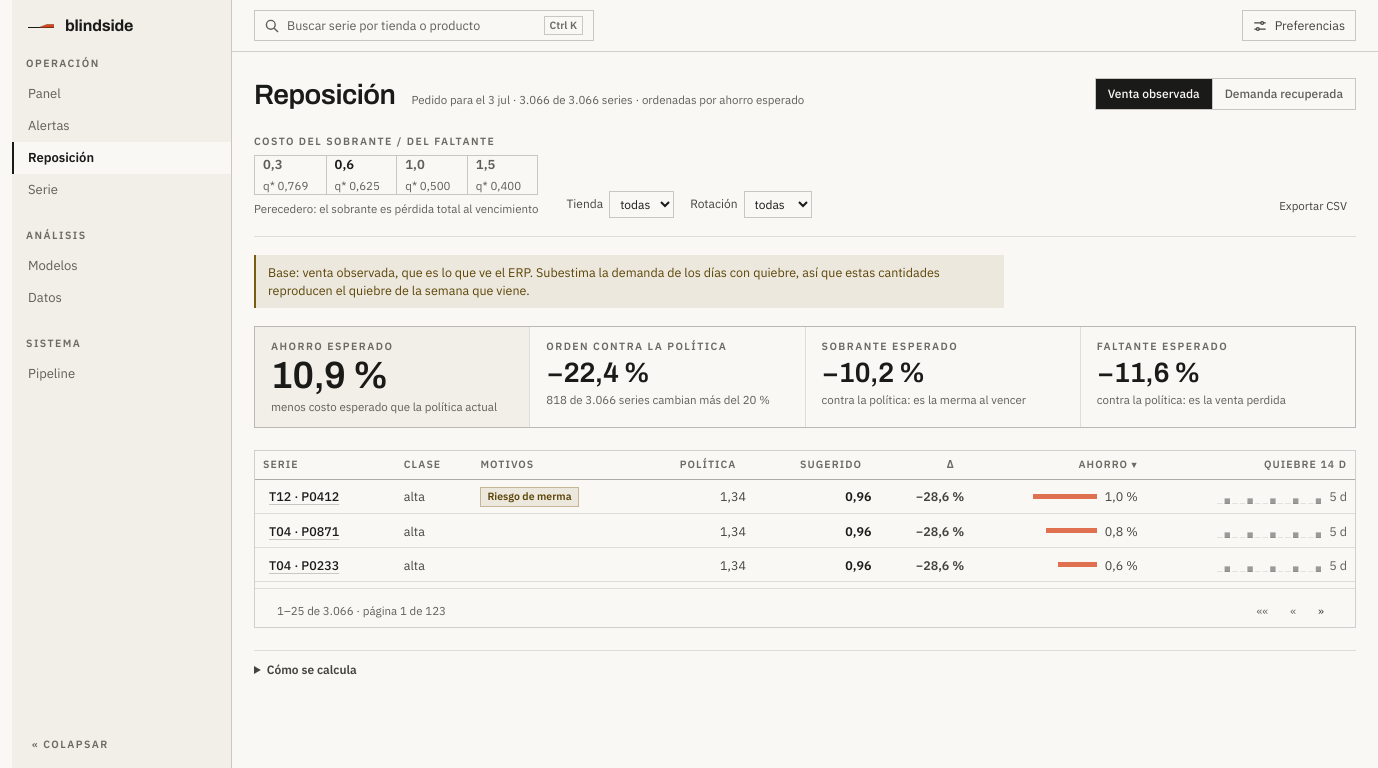
Test: reposición › el toggle cambia la cantidad sugerida, no solo un dibujo
Expected: the table is shown, [255, 451, 1355, 582]
Click the button "Demanda recuperada" at (1283, 94), box [1212, 79, 1355, 109]
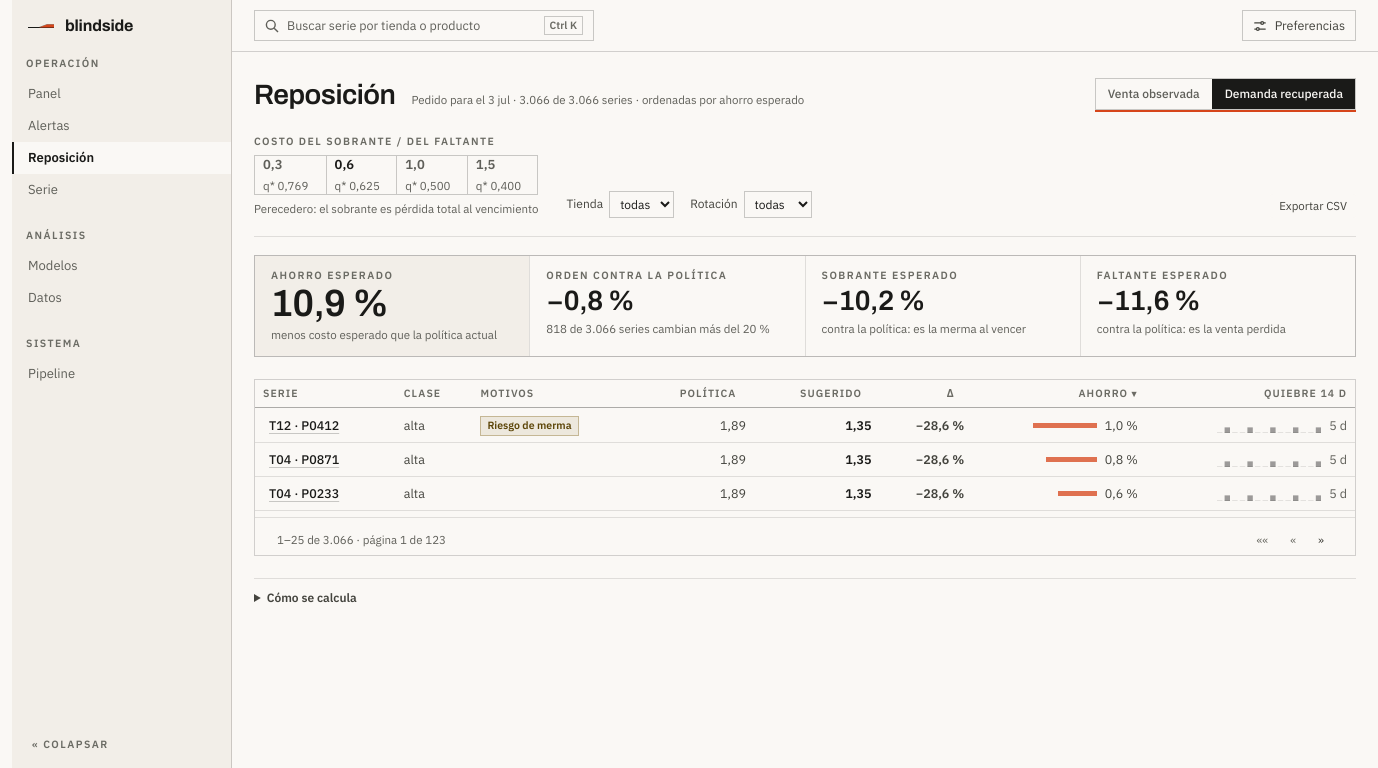
Expected: the text "1,35" in the row of "Riesgo de merma" is shown, [845, 417, 872, 433]
Expected: the text "lo que ve el ERP" is gone
